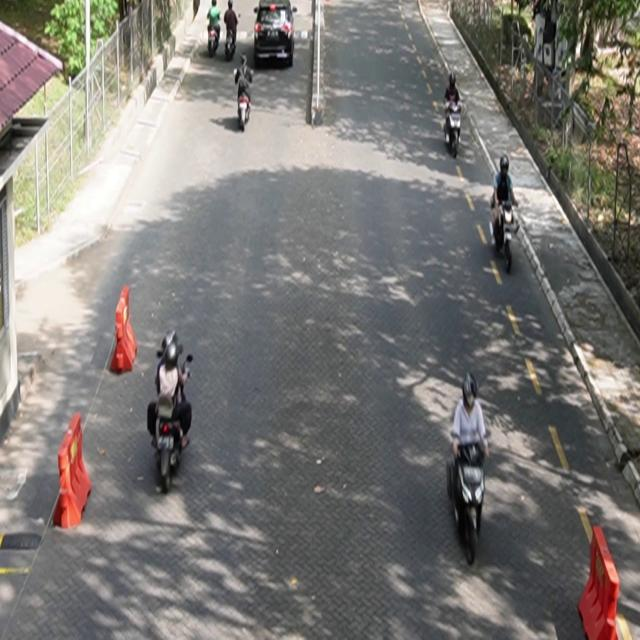car: (254, 1, 298, 68)
